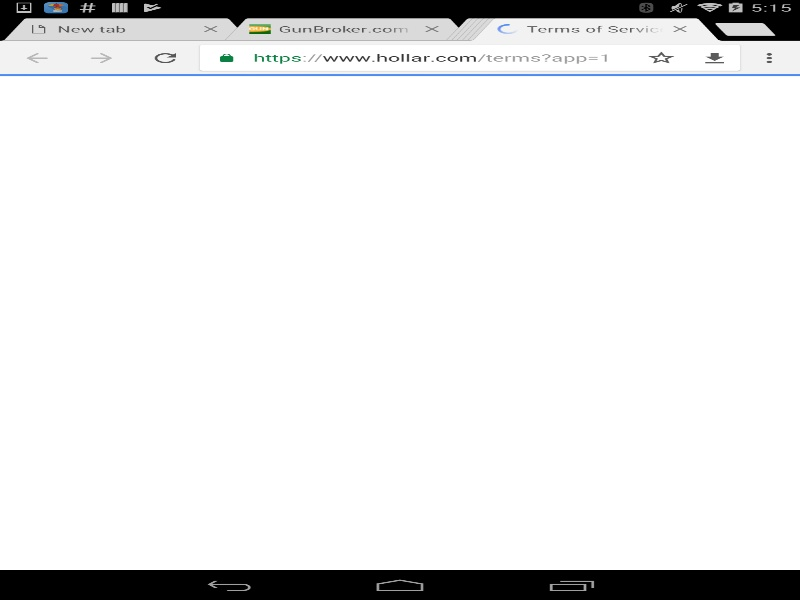Button: (5, 40, 69, 75), (69, 40, 133, 75), (133, 40, 197, 75), (742, 40, 800, 75), (634, 45, 688, 70), (200, 45, 253, 70), (688, 45, 741, 70)
Input: (253, 46, 634, 68)
